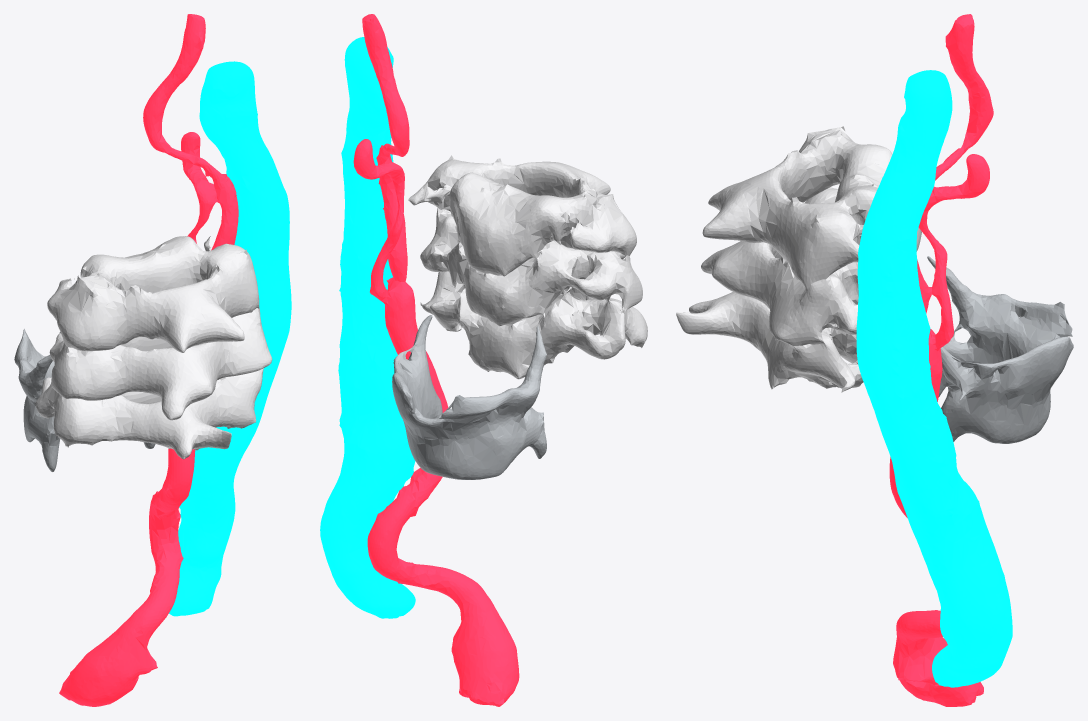
File: carotis-right.glb
The picture shows the model from 3 angles, left to right: view 1: azimuth 30°, elevation 25°; view 2: azimuth 150°, elevation 25°; view 3: azimuth 270°, elevation 25°; orthographic projection. The views are drawn at different scales.
Parts seen in each view (by area): view 1: 0:3:V_jugularis_interna_dextra, 0:5:Vertebra_C3, 0:6:Vertebra_C4, 0:7:Vertebra_C5, 0:0:A_carotis_communis_dextra, 0:1:A_carotis_interna_dextra, 0:4:Cartilago_thyroidea, 0:2:A_carotis_externa_dextra; view 2: 0:3:V_jugularis_interna_dextra, 0:5:Vertebra_C3, 0:0:A_carotis_communis_dextra, 0:4:Cartilago_thyroidea, 0:6:Vertebra_C4, 0:7:Vertebra_C5, 0:1:A_carotis_interna_dextra, 0:2:A_carotis_externa_dextra; view 3: 0:3:V_jugularis_interna_dextra, 0:5:Vertebra_C3, 0:4:Cartilago_thyroidea, 0:6:Vertebra_C4, 0:7:Vertebra_C5, 0:0:A_carotis_communis_dextra, 0:1:A_carotis_interna_dextra, 0:2:A_carotis_externa_dextra.
Boxes of the visible parts, bbox=[...] form: 0:3:V_jugularis_interna_dextra: bbox=[169, 61, 291, 616]; 0:5:Vertebra_C3: bbox=[47, 236, 259, 352]; 0:6:Vertebra_C4: bbox=[49, 307, 272, 420]; 0:7:Vertebra_C5: bbox=[35, 368, 263, 459]; 0:0:A_carotis_communis_dextra: bbox=[59, 448, 195, 706]; 0:1:A_carotis_interna_dextra: bbox=[143, 14, 238, 250]; 0:4:Cartilago_thyroidea: bbox=[14, 329, 155, 471]; 0:2:A_carotis_externa_dextra: bbox=[181, 132, 216, 243]; 0:3:V_jugularis_interna_dextra: bbox=[320, 37, 415, 618]; 0:5:Vertebra_C3: bbox=[408, 155, 636, 276]; 0:0:A_carotis_communis_dextra: bbox=[367, 277, 519, 706]; 0:4:Cartilago_thyroidea: bbox=[392, 315, 546, 479]; 0:6:Vertebra_C4: bbox=[420, 208, 642, 326]; 0:7:Vertebra_C5: bbox=[420, 271, 647, 379]; 0:1:A_carotis_interna_dextra: bbox=[362, 14, 409, 281]; 0:2:A_carotis_externa_dextra: bbox=[353, 139, 404, 305]; 0:3:V_jugularis_interna_dextra: bbox=[856, 70, 1012, 687]; 0:5:Vertebra_C3: bbox=[702, 126, 921, 291]; 0:4:Cartilago_thyroidea: bbox=[927, 256, 1073, 443]; 0:6:Vertebra_C4: bbox=[701, 186, 858, 345]; 0:7:Vertebra_C5: bbox=[676, 292, 863, 392]; 0:0:A_carotis_communis_dextra: bbox=[889, 329, 983, 706]; 0:1:A_carotis_interna_dextra: bbox=[917, 14, 993, 313]; 0:2:A_carotis_externa_dextra: bbox=[918, 154, 989, 351].
Size of the model in its own units: 0.072 by 0.1684 by 0.0818.
